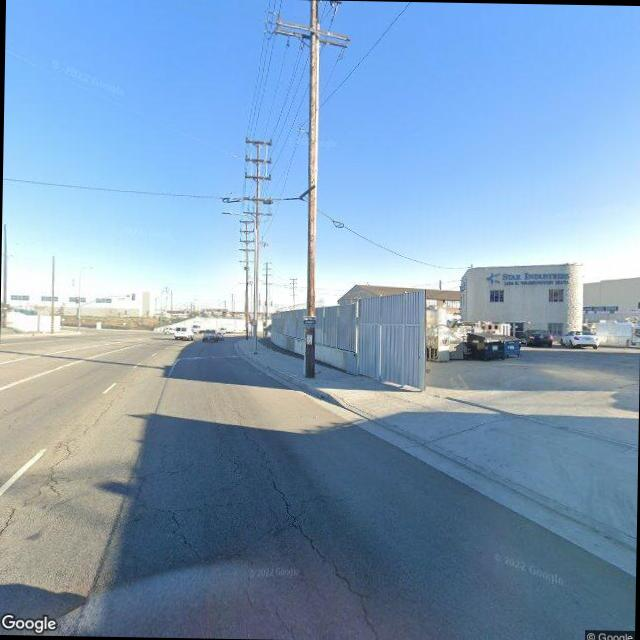pothole: (231, 411, 407, 640), (0, 391, 115, 576)
